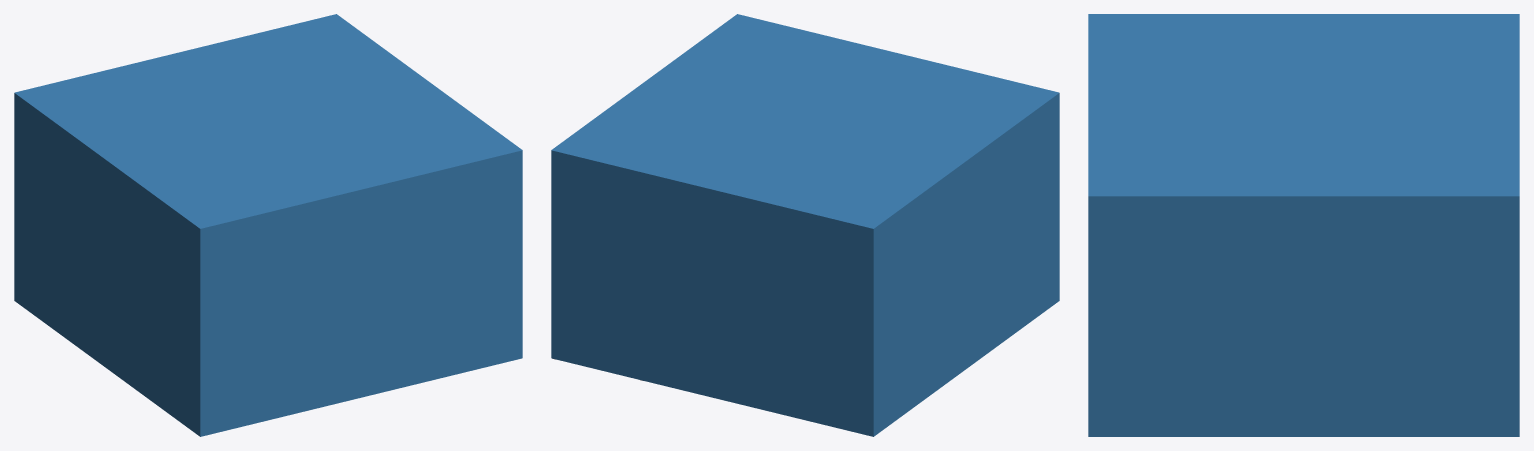
The model's file is roomBI.fbx.
3 renders of one model, left to right at view 1: azimuth 30°, elevation 25°; view 2: azimuth 150°, elevation 25°; view 3: azimuth 270°, elevation 25°, orthographic. The views are drawn at different scales.
Parts seen in each view (by area): view 1: floor; view 2: floor; view 3: floor.
Boxes of the visible parts, x1,y1,x2,y2 form: floor: [14, 14, 522, 436]; floor: [551, 14, 1059, 436]; floor: [1088, 14, 1519, 436].
Bounding box in the file's own units: 81.33 × 50.21 × 81.33.
